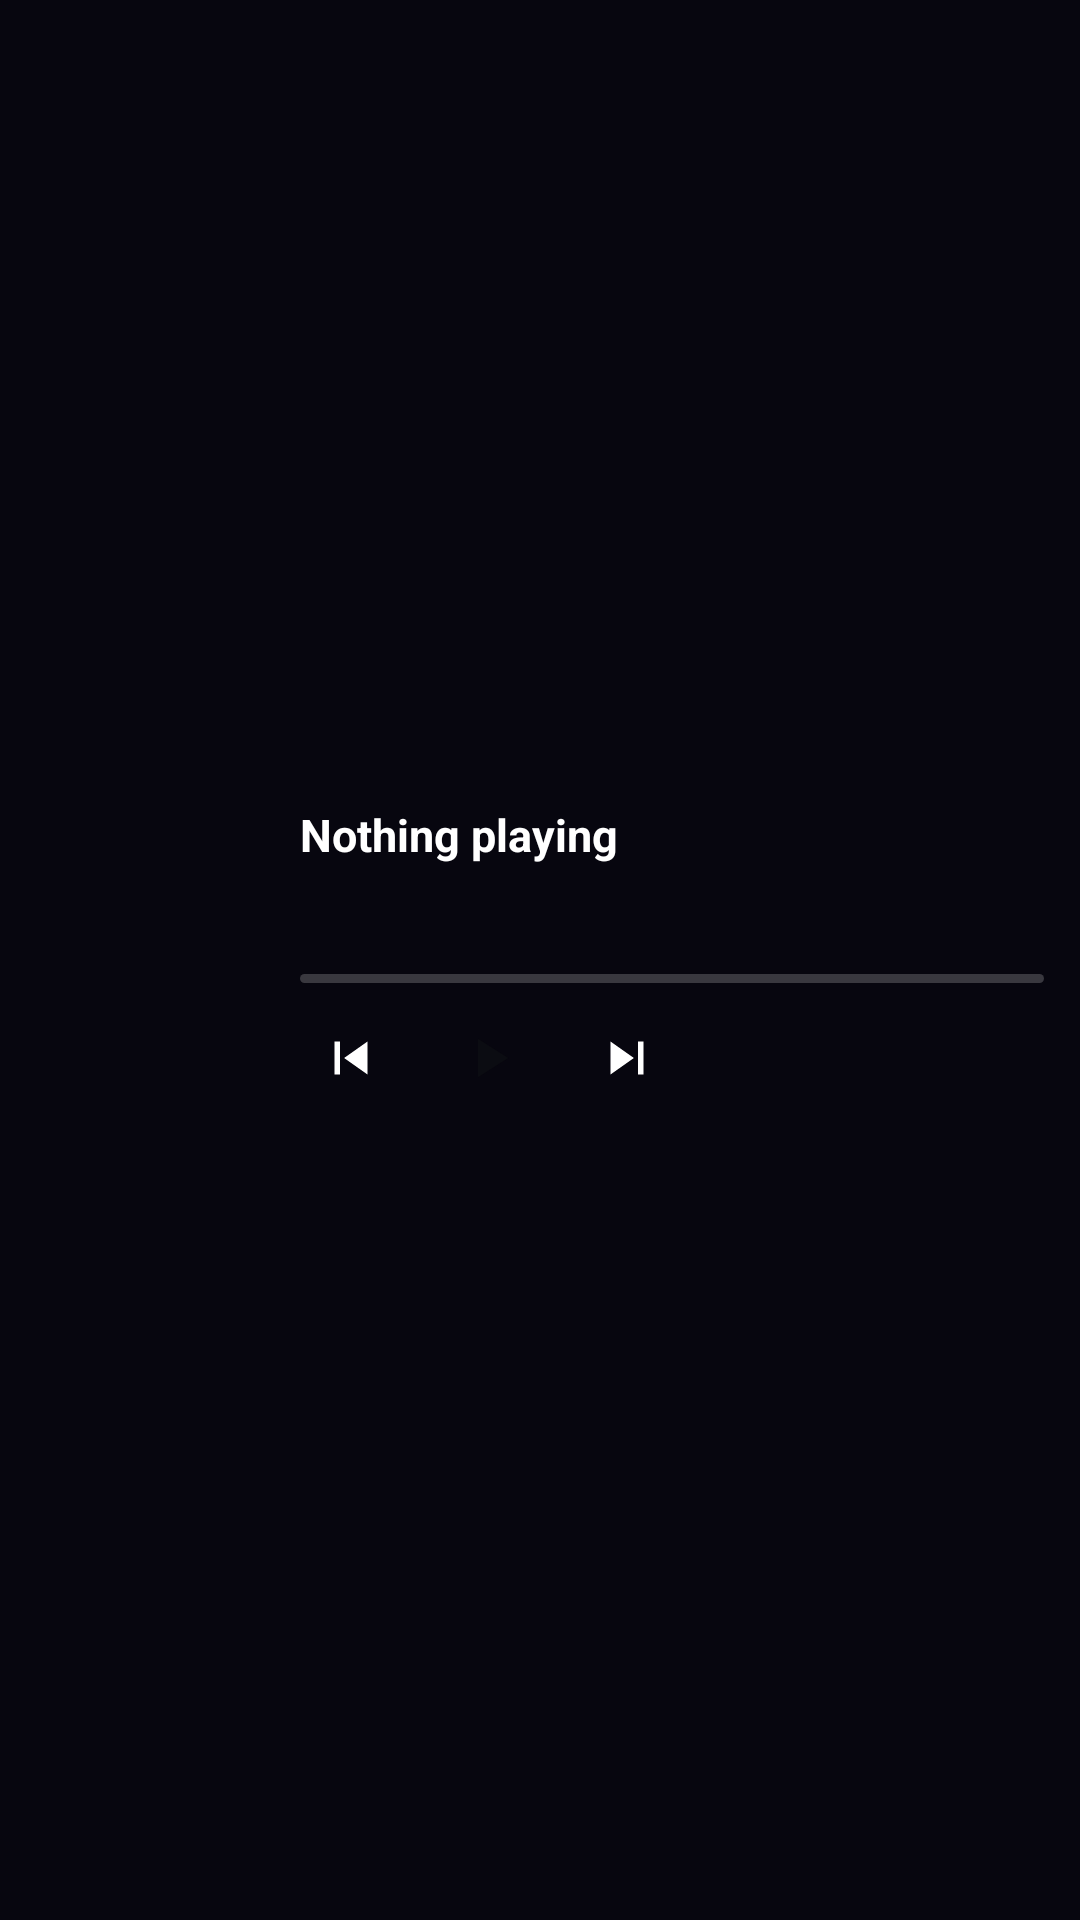

Icon bounding boxes for this 1080*1920 phone screenshot, format (x1, y1, x2, y2):
Next: (610, 1041, 644, 1075)
Previous: (334, 1041, 368, 1075)
